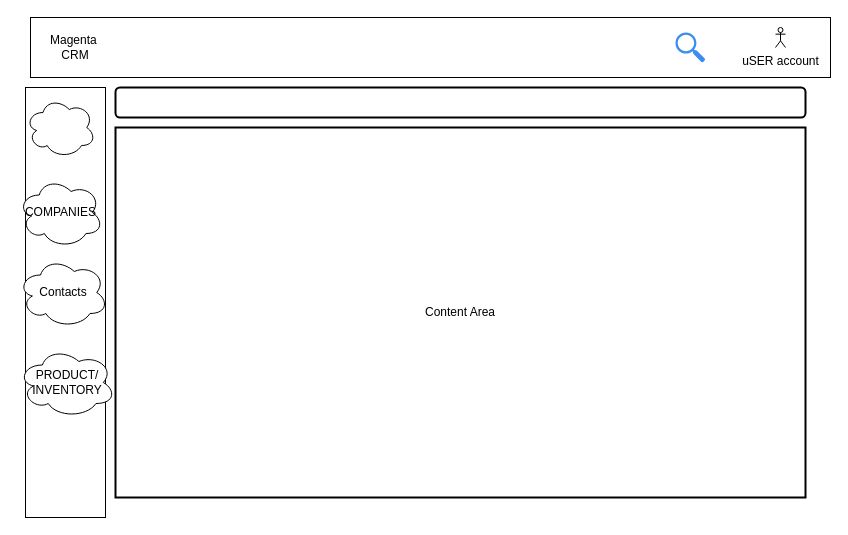
Image size: 848x535. Some labels were removed from this diagram. Each missing label, with the box of its shape:
DEALS: (24, 96, 96, 158)
Filter: (114, 86, 806, 118)
